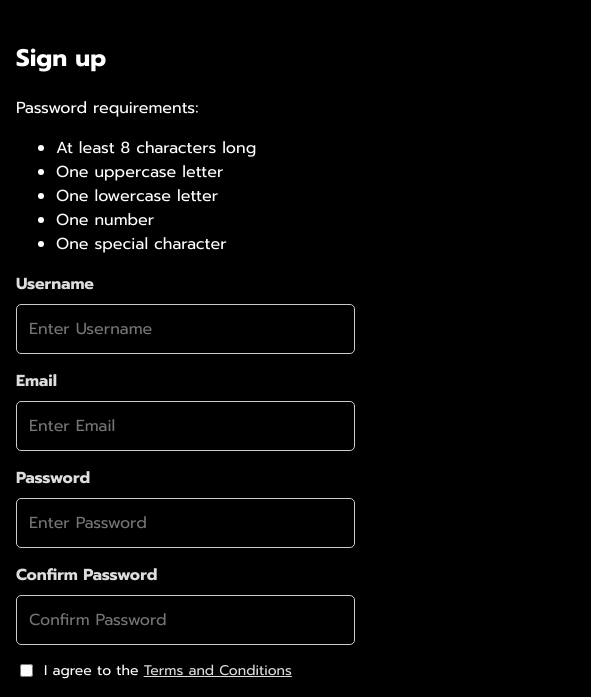
Test: Signup Component › should display validation error when passwords do not match
Click the checkbox labelled "I agree to the Terms and Conditions" at (26, 670), box x1=20 y1=664 x2=33 y2=677
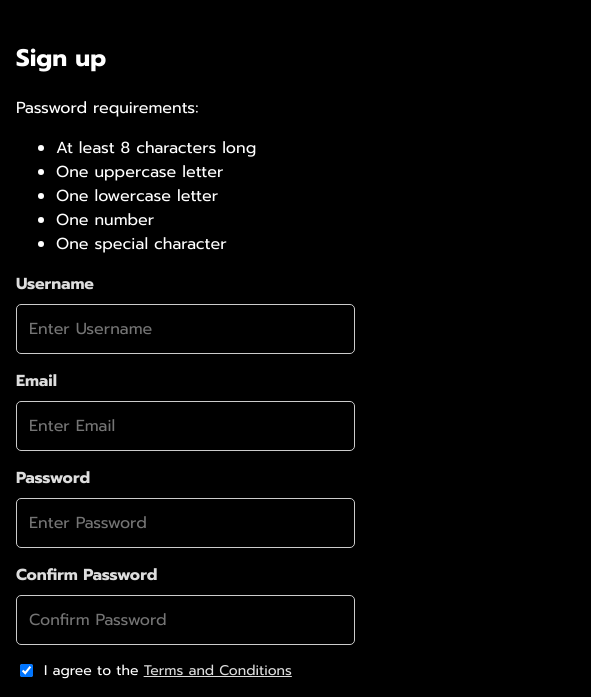
// Enter different passwords in the password and confirm password fields
Type "password123!" into the password field with placeholder "Enter Password" at (185, 523), box x1=16 y1=498 x2=355 y2=548
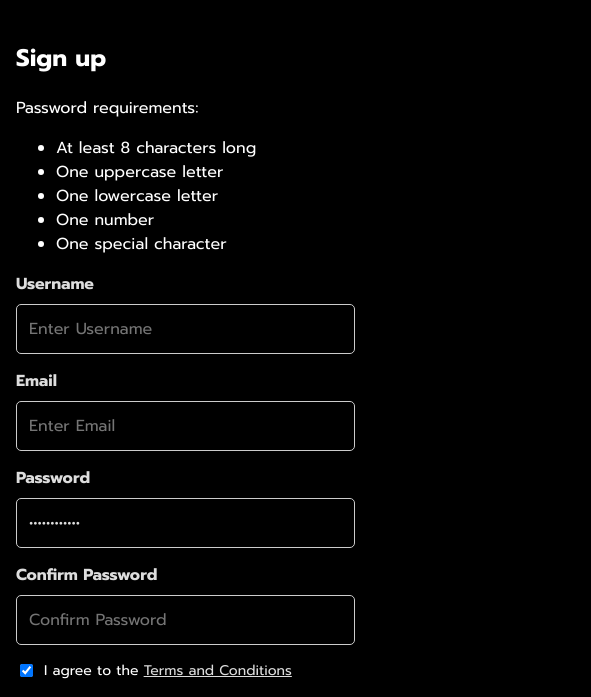
Type "differentPassword123!" into the password field with placeholder "Confirm Password" at (185, 620), box x1=16 y1=595 x2=355 y2=645
(page scrolled)
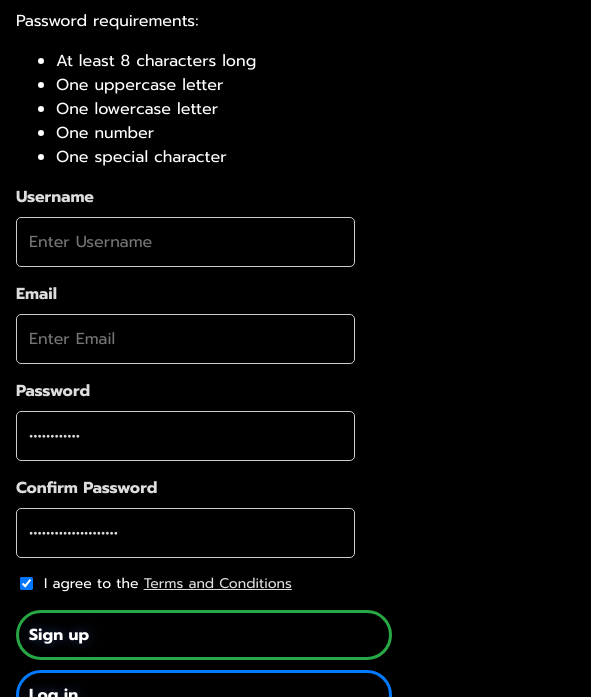
// Simulate form submission
Click the button "Sign up" at (59, 635), box x1=16 y1=610 x2=392 y2=660
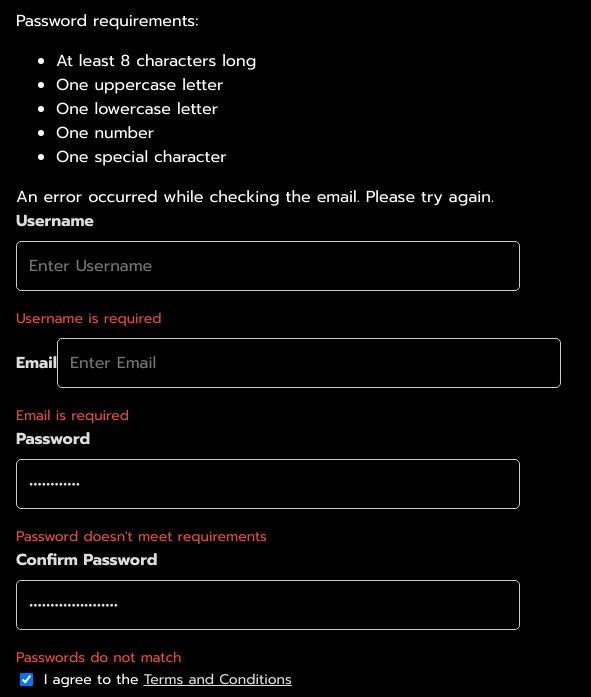
Expected: the text "Passwords do not match" is shown, x1=16 y1=647 x2=182 y2=668
